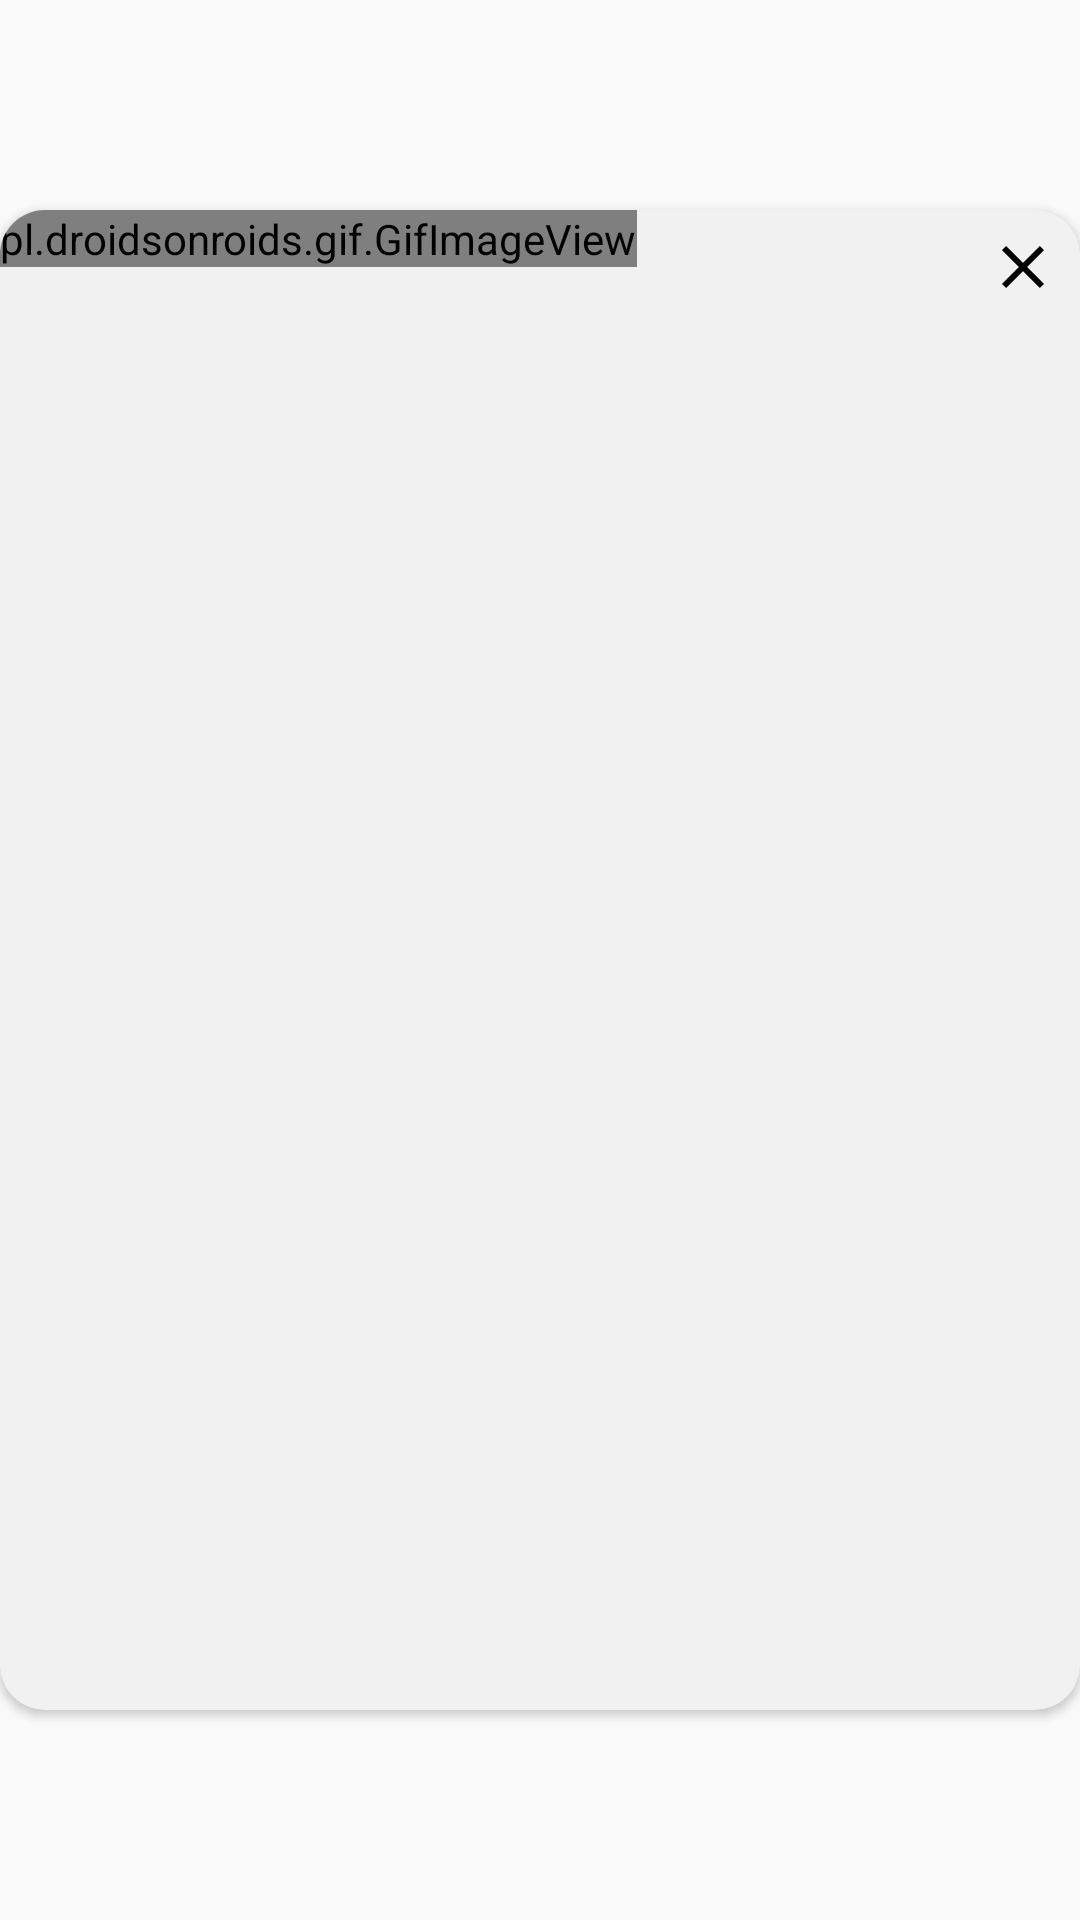

Screen size 1080 × 1920. Icon name, then its box in pixels as (x1=x1, y1=y1, x2=x2, y2=y2):
close: (x1=1002, y1=246, x2=1044, y2=288)
